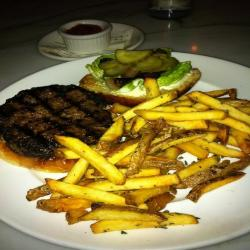burger: (3, 51, 203, 173)
fries: (89, 103, 250, 230)
ketchup: (51, 14, 114, 45)
